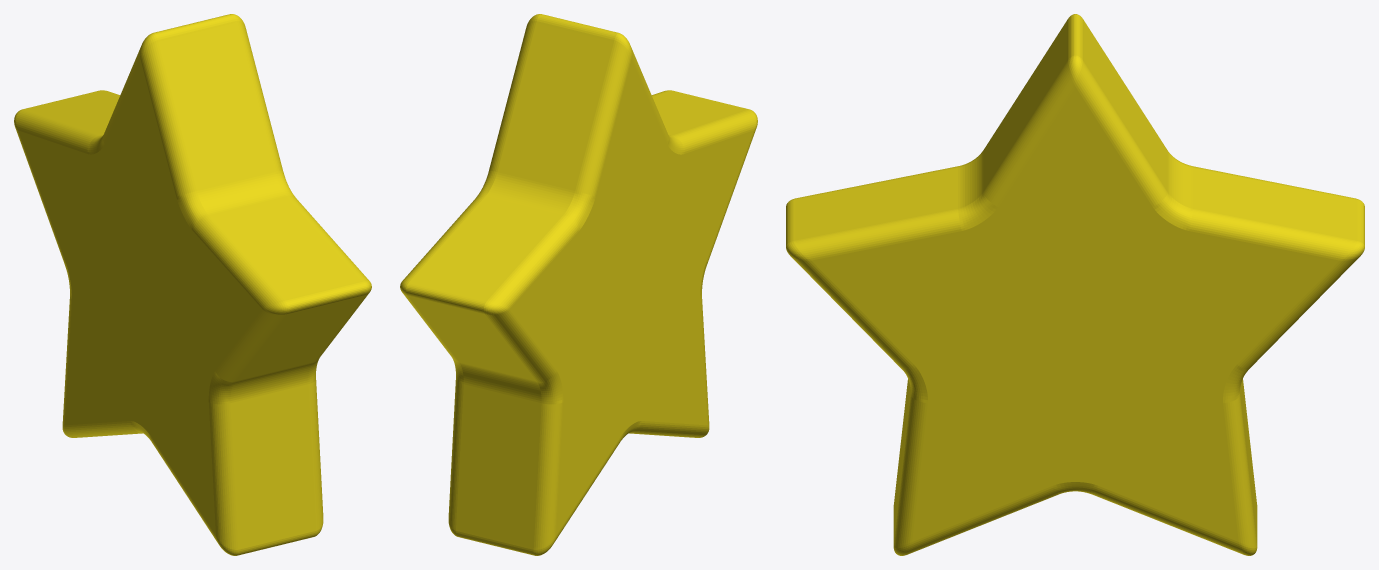
Rendered from star.glb.
3 views of the same model, side by side, from view 1: azimuth 30°, elevation 25°; view 2: azimuth 150°, elevation 25°; view 3: azimuth 270°, elevation 25° (orthographic). The views are drawn at different scales.
Visible parts, largest first — view 1: Circle.001; view 2: Circle.001; view 3: Circle.001.
Boxes of the visible parts, x1,y1,x2,y2 form: Circle.001: [14, 14, 371, 555]; Circle.001: [400, 14, 757, 555]; Circle.001: [786, 14, 1364, 555].
Bounding box in the file's own units: 0.5385 × 2.26 × 2.38.
